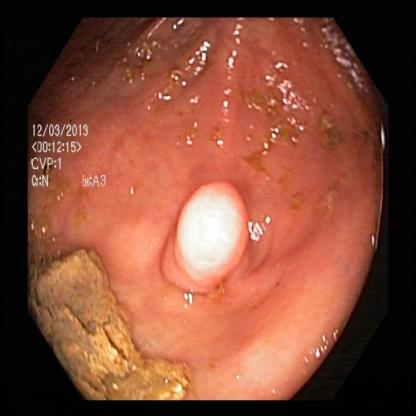Polyps: (154, 179, 262, 318)
